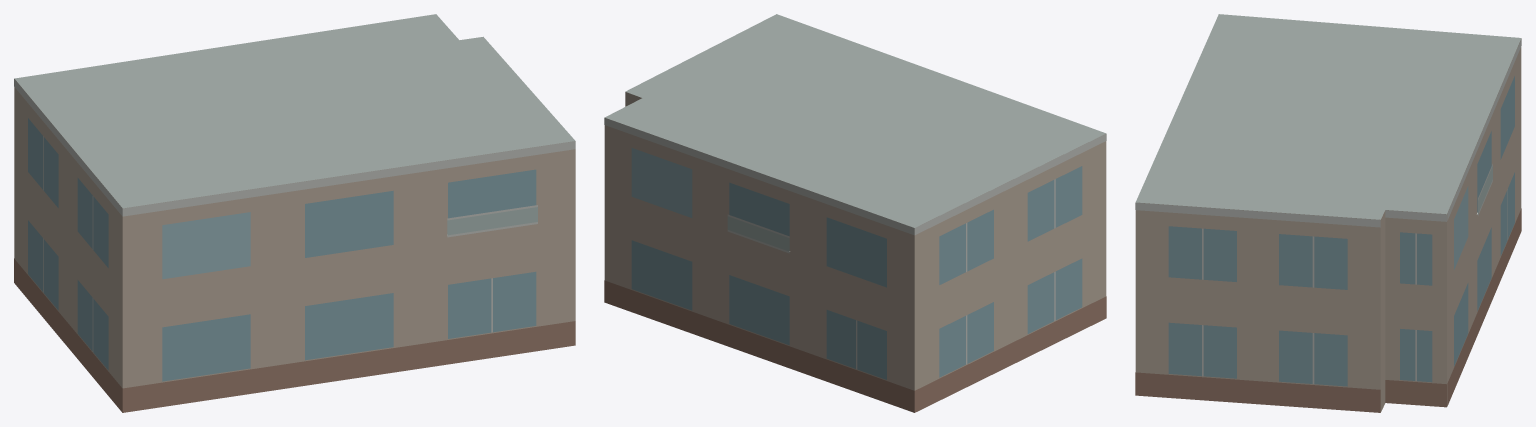
File: survey-upis-32714684.glb
3 views of the same model, side by side, from view 1: azimuth 30°, elevation 25°; view 2: azimuth 150°, elevation 25°; view 3: azimuth 270°, elevation 25° (orthographic). The views are drawn at different scales.
Parts seen in each view (by area): view 1: survey-upis-32714684.tmp; view 2: survey-upis-32714684.tmp; view 3: survey-upis-32714684.tmp.
Boxes of the visible parts, <box> form: survey-upis-32714684.tmp: <box>14,14,575,412</box>; survey-upis-32714684.tmp: <box>604,14,1106,412</box>; survey-upis-32714684.tmp: <box>1135,14,1521,412</box>.
Bounding box in the file's own units: 13.96 × 6.1 × 11.06.
